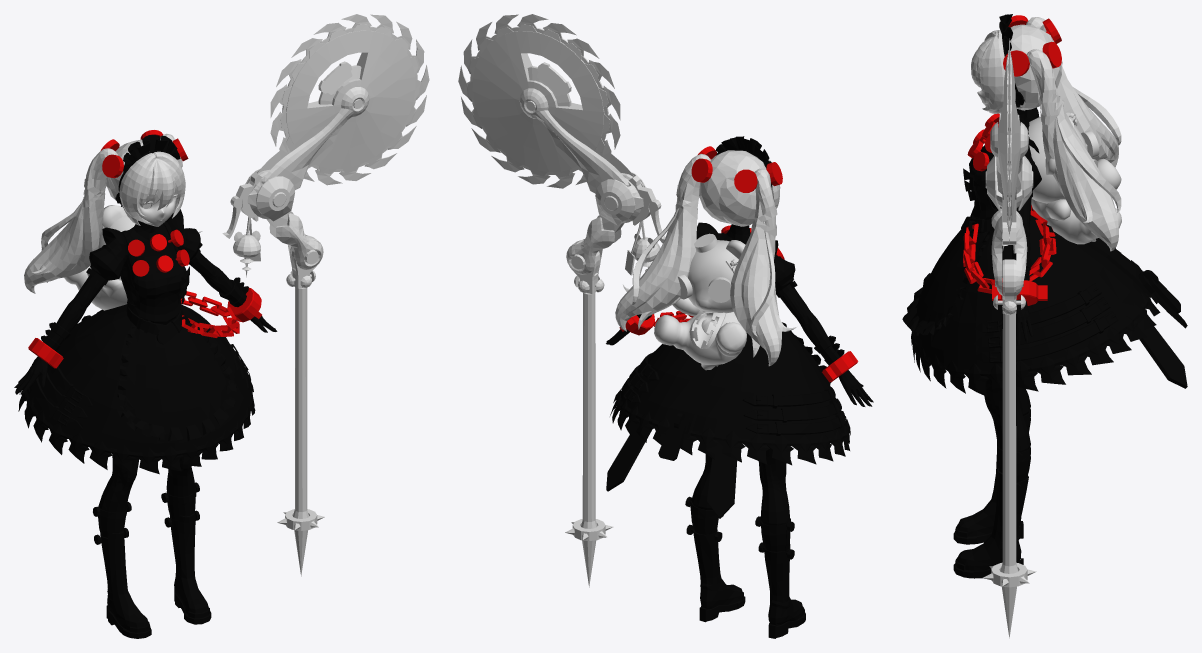
File: vertexColor_ch.fbx
3 renders of one model, left to right at view 1: azimuth 30°, elevation 25°; view 2: azimuth 150°, elevation 25°; view 3: azimuth 270°, elevation 25°, orthographic. The views are drawn at different scales.
Visible parts, largest first — view 1: Corin_body, Corin_Weapon, Corin_hair, Corin_body_02, Corin_face; view 2: Corin_body, Corin_Weapon, Corin_hair, Corin_body_02; view 3: Corin_body, Corin_hair, Corin_Weapon, Corin_body_02.
Boxes of the visible parts, <box> form: Corin_body: <box>14,130,277,638</box>; Corin_Weapon: <box>222,14,429,576</box>; Corin_hair: <box>24,133,202,293</box>; Corin_body_02: <box>64,205,135,310</box>; Corin_face: <box>139,184,177,226</box>; Corin_body: <box>606,136,873,638</box>; Corin_Weapon: <box>458,14,665,587</box>; Corin_hair: <box>615,150,796,366</box>; Corin_body_02: <box>654,233,746,370</box>; Corin_body: <box>902,14,1187,578</box>; Corin_hair: <box>971,17,1121,251</box>; Corin_Weapon: <box>983,38,1036,638</box>; Corin_body_02: <box>1028,100,1121,244</box>.
Bounding box in the file's own units: 127 × 162 × 67.87.
